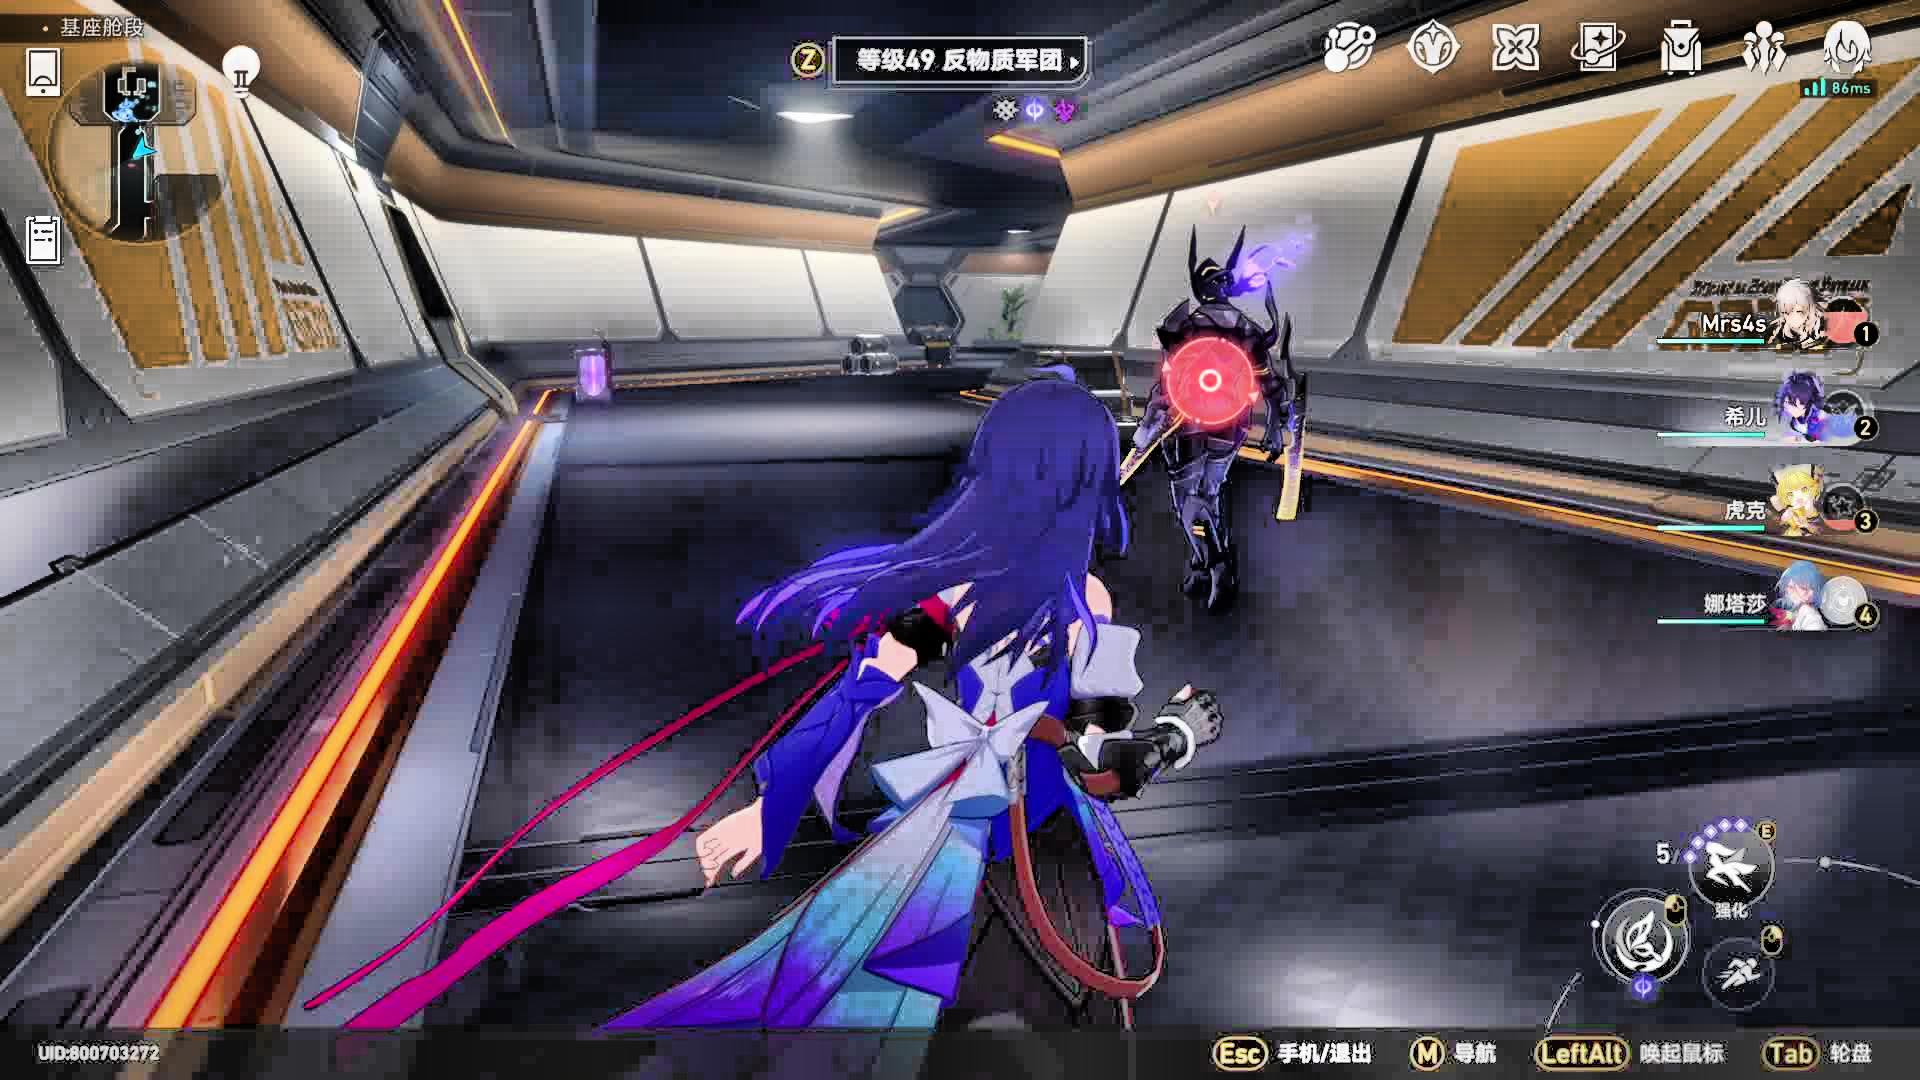Box: (1039, 345, 1127, 425), (839, 334, 899, 376)
Enemy: (1113, 227, 1307, 621)
Self: (297, 380, 1236, 1035)
